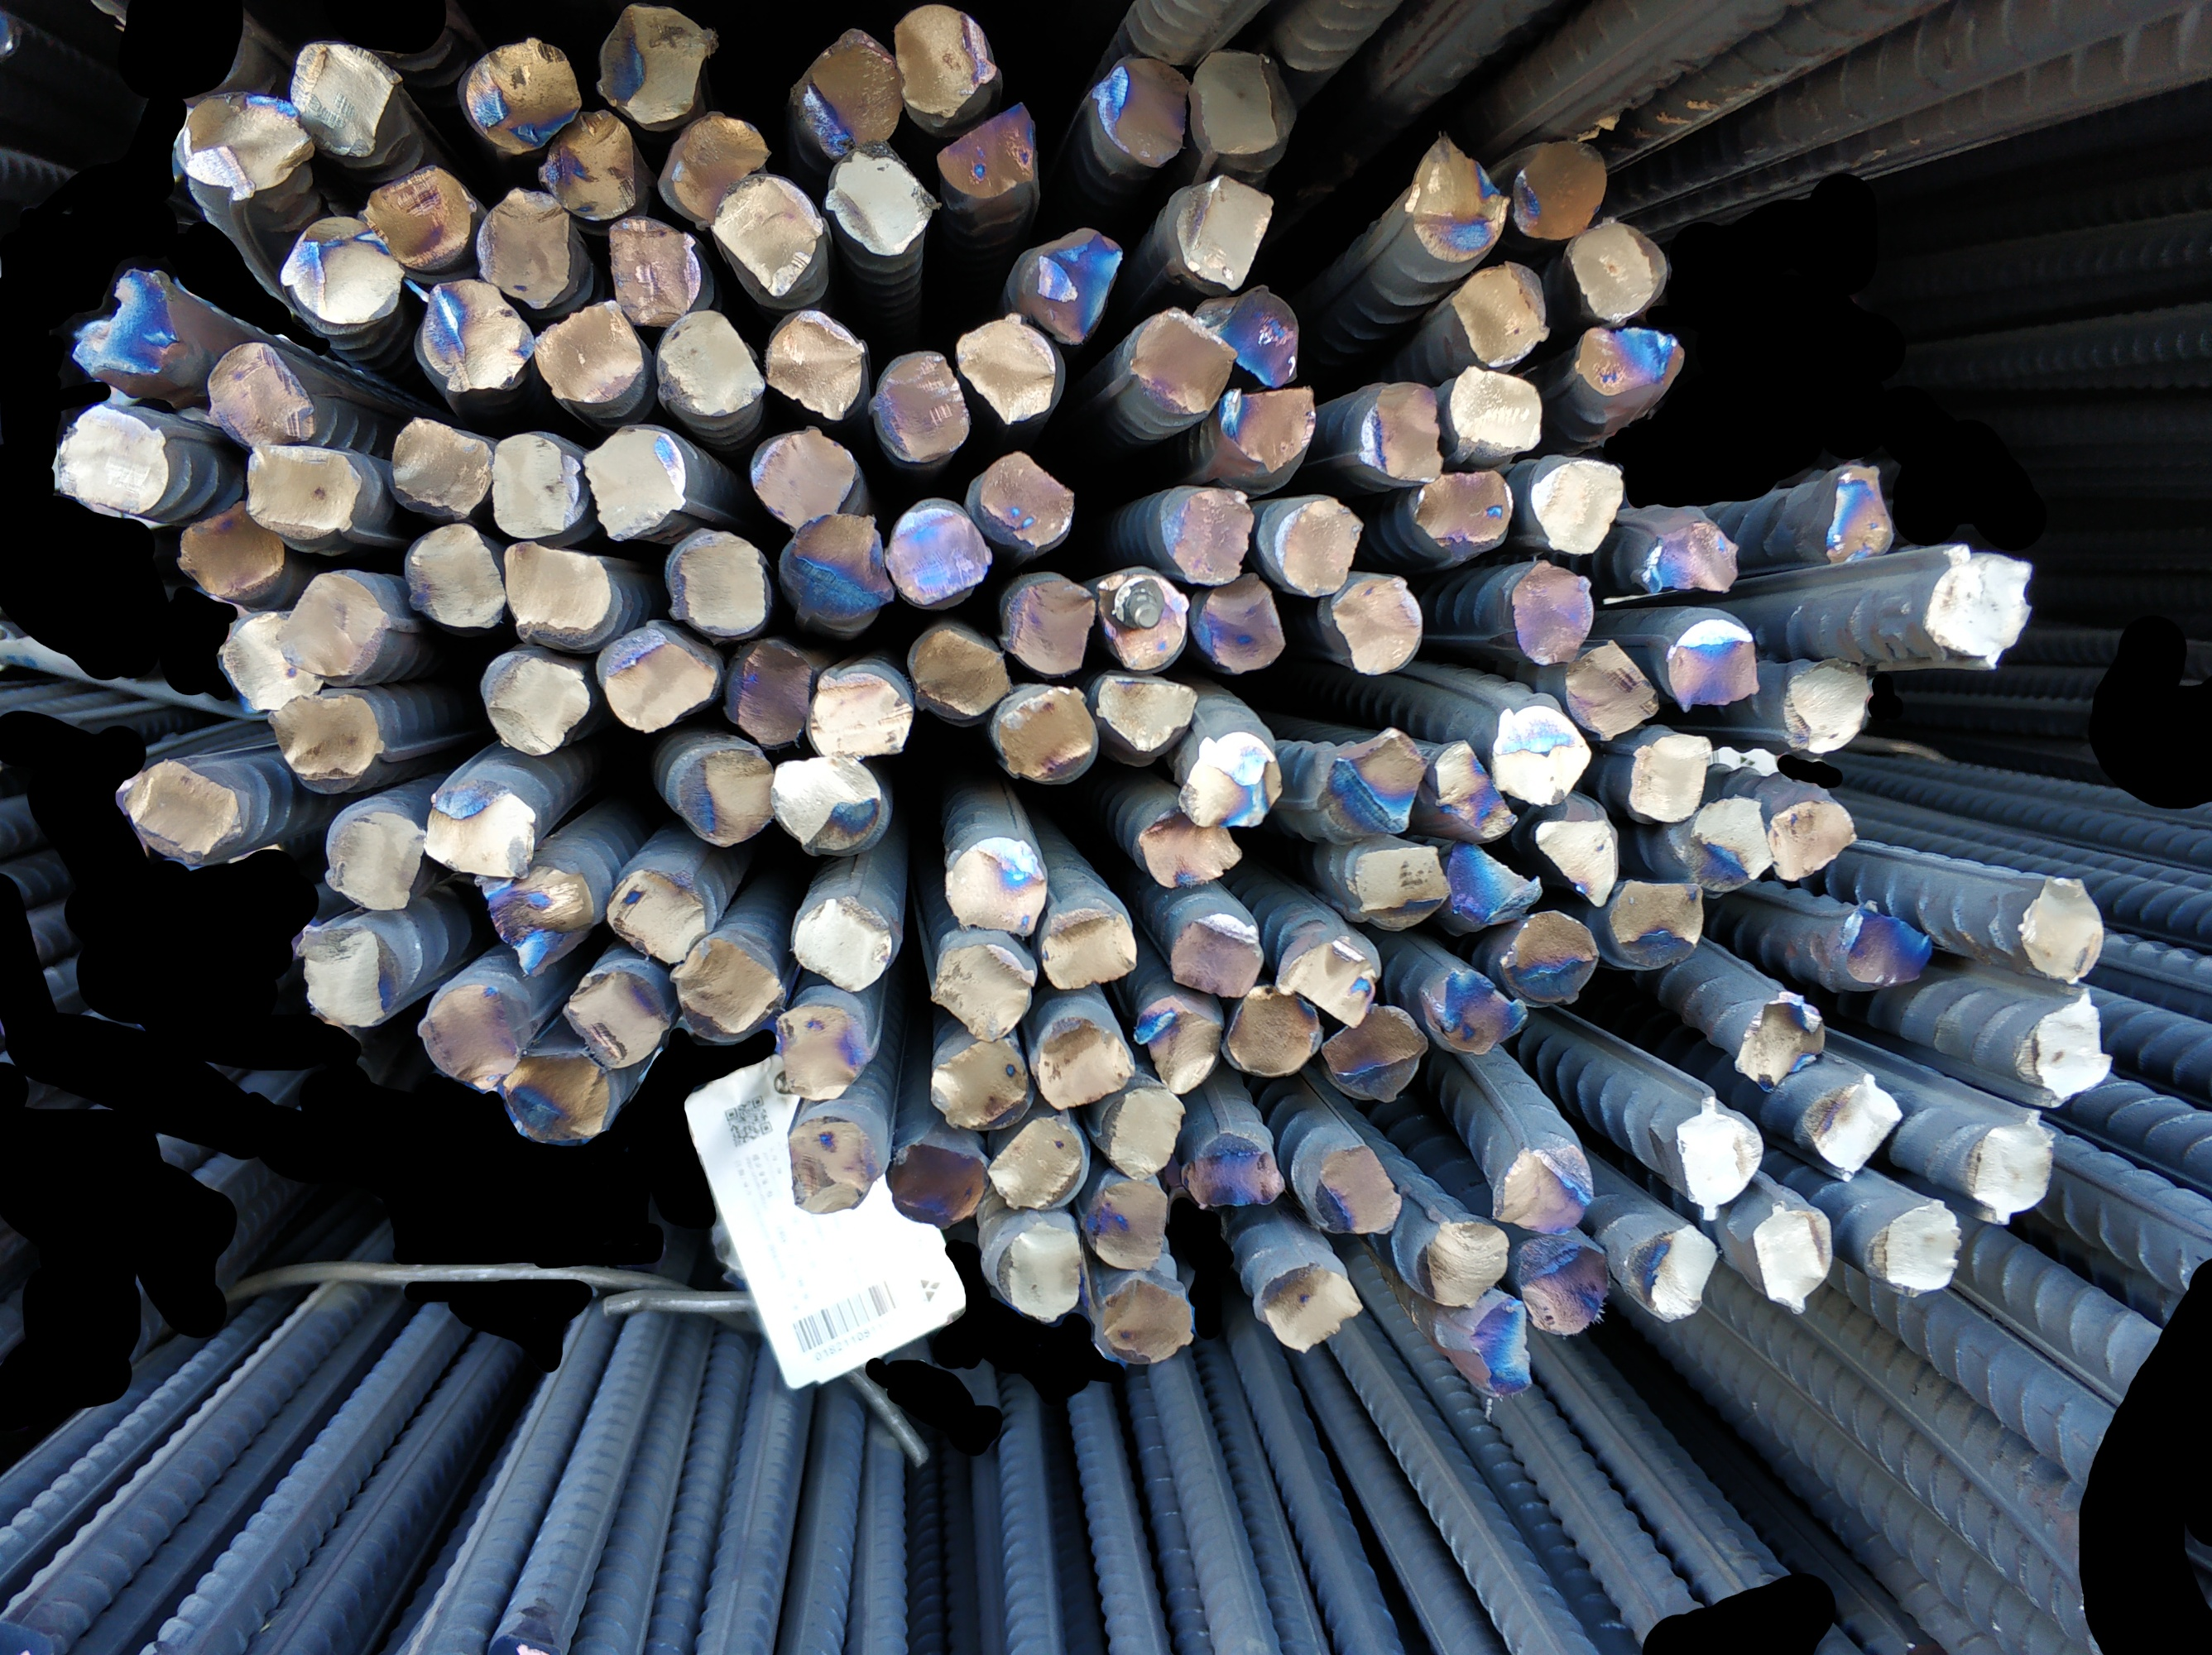rebar: (167, 87, 313, 205), (787, 26, 904, 160), (52, 395, 179, 516), (73, 256, 188, 389), (712, 172, 831, 299), (469, 862, 594, 980), (275, 216, 407, 327), (288, 35, 403, 162), (1924, 541, 2036, 669), (598, 0, 716, 122), (464, 33, 580, 155), (419, 275, 535, 395), (582, 415, 690, 544), (777, 509, 893, 628), (1406, 132, 1512, 261), (601, 622, 719, 737), (217, 598, 330, 718), (1013, 224, 1126, 344), (1670, 1081, 1764, 1226), (273, 568, 391, 681), (891, 0, 1003, 118), (1187, 45, 1288, 176), (264, 688, 386, 796), (174, 492, 290, 603), (205, 336, 318, 449), (1315, 727, 1427, 841), (2010, 989, 2113, 1113), (660, 104, 772, 217), (822, 146, 938, 254), (125, 758, 243, 864), (535, 104, 641, 223), (478, 648, 591, 758), (1129, 306, 1239, 419), (476, 186, 575, 309), (766, 304, 871, 421), (940, 831, 1050, 940), (502, 537, 613, 645), (659, 308, 766, 419), (884, 495, 992, 607), (417, 974, 523, 1087), (672, 937, 785, 1043), (1189, 283, 1301, 389), (865, 346, 970, 461), (535, 296, 645, 403), (666, 528, 773, 638), (752, 424, 862, 532), (1178, 170, 1274, 294), (605, 214, 711, 325), (401, 522, 506, 635), (363, 163, 476, 268), (954, 313, 1058, 426), (1566, 214, 1670, 327), (1802, 1069, 1904, 1184), (772, 758, 888, 859), (500, 1047, 619, 1146), (419, 782, 537, 881), (1091, 50, 1190, 169), (971, 449, 1083, 553), (323, 801, 426, 914), (561, 965, 669, 1071), (294, 921, 398, 1031), (245, 443, 363, 539), (935, 94, 1041, 200), (1489, 701, 1592, 810), (1451, 257, 1553, 367), (1965, 1107, 2059, 1226), (389, 412, 493, 518), (992, 681, 1100, 784), (488, 428, 587, 539), (1486, 1140, 1597, 1240), (905, 621, 1013, 721), (1526, 450, 1626, 558), (789, 890, 893, 993), (930, 942, 1036, 1043), (674, 741, 773, 848), (1178, 732, 1286, 831), (1746, 1200, 1837, 1316), (772, 1000, 876, 1100), (785, 1111, 884, 1217), (990, 1217, 1084, 1328), (1262, 1257, 1362, 1359), (1510, 137, 1611, 240), (1095, 565, 1190, 673), (606, 864, 707, 965), (1574, 316, 1684, 409), (726, 636, 815, 749), (1305, 1139, 1406, 1238), (930, 1034, 1032, 1132), (1779, 655, 1877, 758), (1732, 987, 1830, 1090), (1322, 1007, 1427, 1102), (1331, 572, 1427, 676), (1277, 937, 1383, 1031), (1500, 911, 1600, 1008), (1665, 612, 1762, 713), (890, 1137, 992, 1233), (1517, 1234, 1611, 1339), (2019, 871, 2106, 982), (1267, 495, 1362, 596), (1194, 574, 1288, 676), (811, 664, 916, 756), (1006, 570, 1096, 676), (1418, 968, 1527, 1055), (1510, 560, 1597, 669), (1626, 1222, 1724, 1319), (990, 1111, 1084, 1212), (1096, 1276, 1197, 1370), (1222, 984, 1324, 1076), (1411, 1212, 1508, 1307), (1447, 367, 1545, 462), (1868, 1198, 1965, 1293), (1444, 838, 1543, 932), (1036, 1019, 1136, 1111), (1534, 808, 1623, 913), (1684, 793, 1772, 897), (1359, 377, 1446, 483), (1355, 841, 1451, 937), (1185, 1125, 1286, 1215), (1161, 485, 1251, 586), (1567, 640, 1658, 741), (1428, 737, 1517, 840), (1135, 998, 1223, 1099), (1102, 1081, 1189, 1184), (1635, 509, 1738, 596), (1168, 911, 1267, 1000), (1218, 384, 1317, 473), (1095, 671, 1197, 756), (1411, 468, 1515, 551), (1136, 808, 1242, 890), (1041, 906, 1138, 994), (1611, 876, 1706, 965), (1765, 793, 1858, 883), (1842, 901, 1934, 991), (1088, 1173, 1171, 1271), (1630, 728, 1713, 826), (1465, 1295, 1538, 1398), (1823, 466, 1896, 568)
